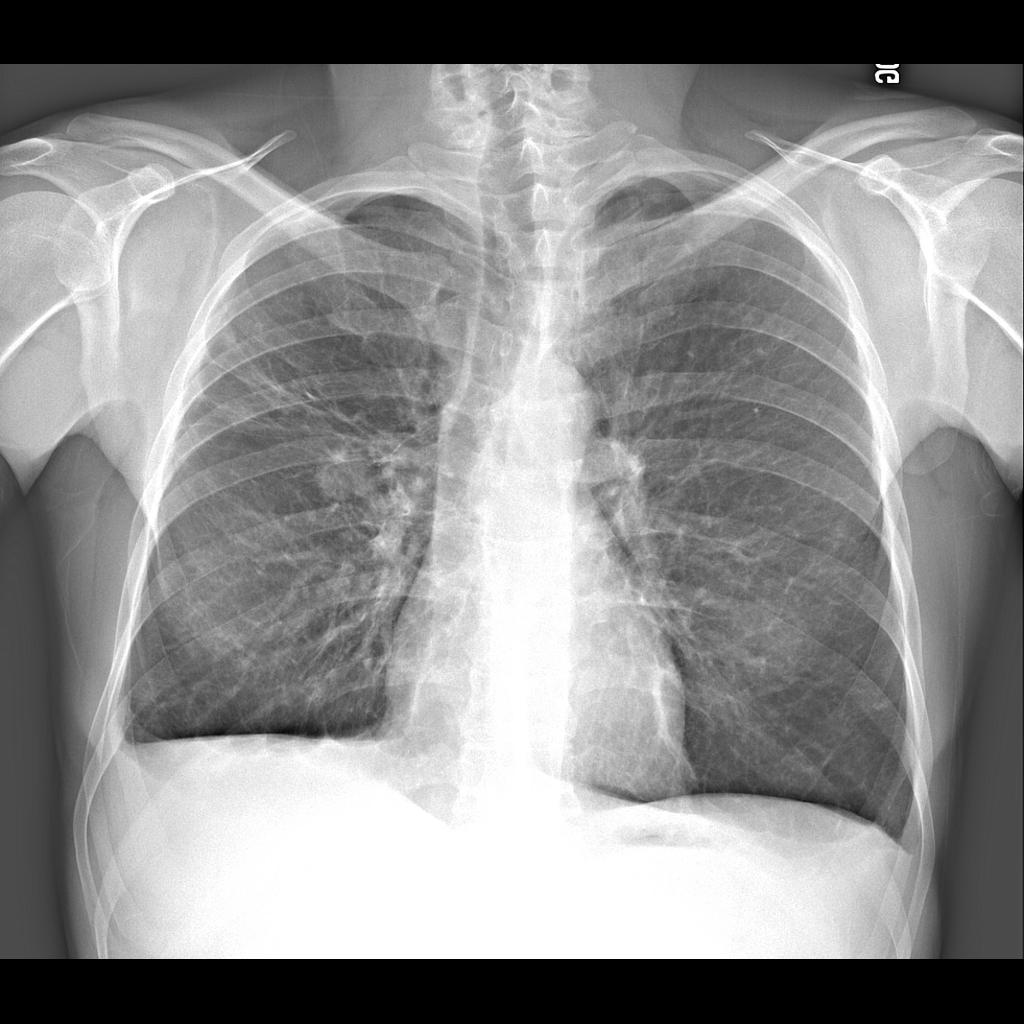Nodule: (310, 439, 374, 512)
